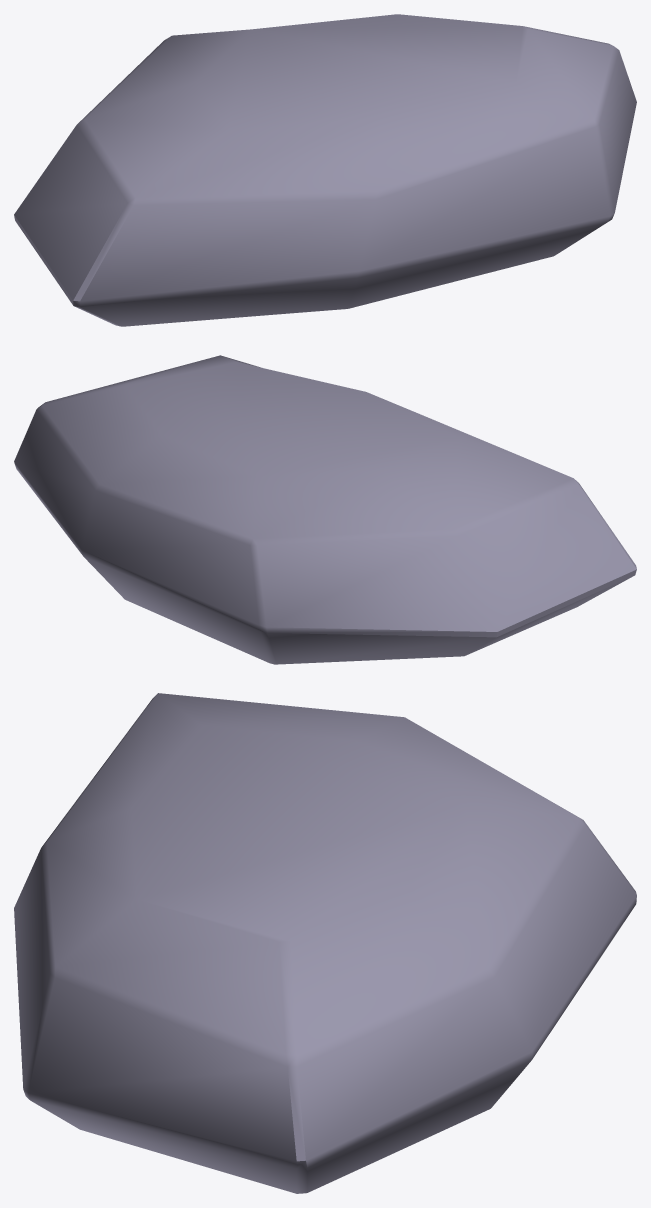
File: flat_rock_01.glb
The picture shows the model from 3 angles, top to bottom: view 1: azimuth 30°, elevation 25°; view 2: azimuth 150°, elevation 25°; view 3: azimuth 270°, elevation 25°; orthographic projection. The views are drawn at different scales.
Visible parts, largest first — view 1: flat_rock_01; view 2: flat_rock_01; view 3: flat_rock_01.
Part boxes in pixels (left/top/right/bottom): flat_rock_01: left=14, top=14, right=636, bottom=326; flat_rock_01: left=14, top=355, right=636, bottom=664; flat_rock_01: left=14, top=693, right=636, bottom=1193.
Bounding box in the file's own units: 0.8753 × 0.22 × 0.565.
